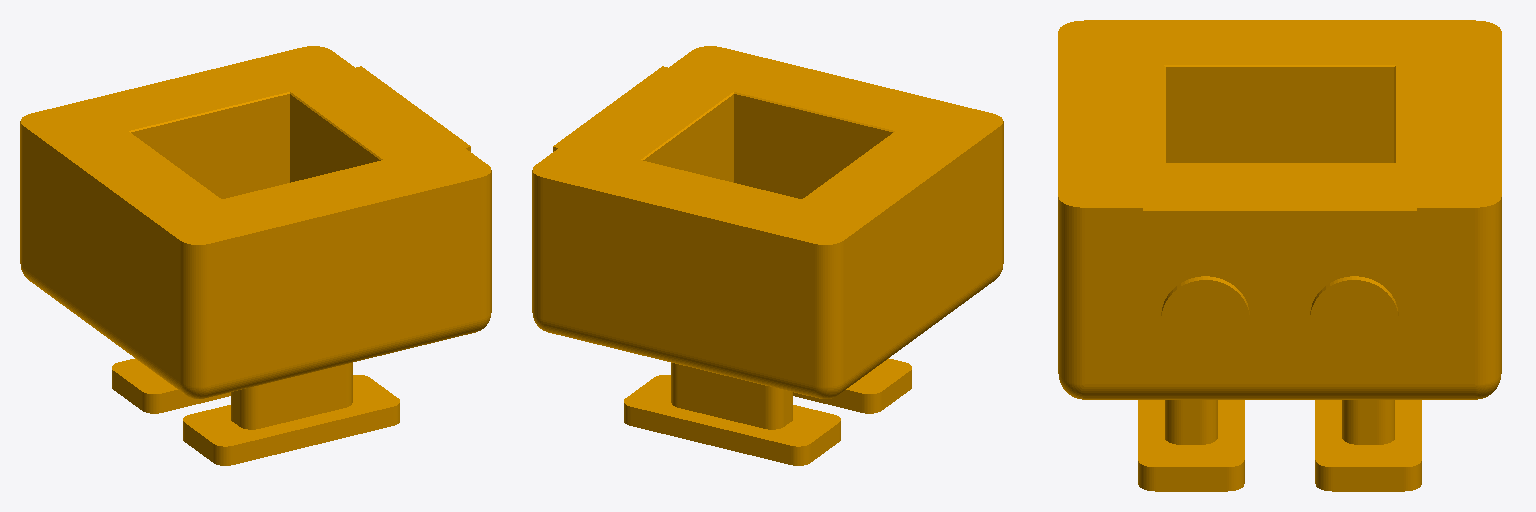
URDF robot description (holi_bottom_08):
<?xml version="1.0"?>
<robot name="holi_bottom_08">

  <link name="holi_bottom_08">
        
    <visual>
      <origin xyz="0.0 0.0 0.0" rpy="0 0 1.57079632679"/>
      <geometry>
        <mesh filename="package://holi/meshes/visual/holi_bottom_08.obj"/>
      </geometry>            
    </visual>

    <!-- foot -->
    <collision>
      <origin xyz="0.0 -0.01 0.0015"/>
      <geometry>
        <box size="0.03 0.01 0.003"/>
      </geometry>      
    </collision>
    <inertial>
      <mass value="1"/>
      <friction value="1.0"/>
      <inertia ixx="0.01" ixy="0.0" ixz="0.0" iyy="0.01" iyz="0.0" izz="0.01"/>
    </inertial>

    <!-- foot -->
    <collision>
      <origin xyz="0.0 0.01 0.0015"/>
      <geometry>
        <box size="0.03 0.01 0.003"/>
      </geometry>      
    </collision>
    <inertial>
      <mass value="1"/>
      <friction value="1.0"/>
      <inertia ixx="0.01" ixy="0.0" ixz="0.0" iyy="0.01" iyz="0.0" izz="0.01"/>
    </inertial>
   
    <!-- leg -->
    <collision>
      <origin xyz="0.0 -0.01 0.009"/>
      <geometry>
        <box size="0.02 0.005 0.012"/>
      </geometry>        
    </collision>
    <inertial>
      <mass value="1"/>
      <friction value="1.0"/>
      <inertia ixx="0.01" ixy="0.0" ixz="0.0" iyy="0.01" iyz="0.0" izz="0.01"/>
    </inertial>
    
    <!-- leg -->
    <collision>
      <origin xyz="0.0  0.01 0.009"/>
      <geometry>
        <box size="0.02 0.005 0.012"/>
      </geometry>        
    </collision>
    <inertial>
      <mass value="1"/>
      <friction value="1.0"/>
      <inertia ixx="0.01" ixy="0.0" ixz="0.0" iyy="0.01" iyz="0.0" izz="0.01"/>
    </inertial>

    <!-- body -->
    <collision>
      <origin xyz="0.0 0.0 0.02"/>
      <geometry>
        <box size="0.05 0.05 0.01"/>
      </geometry>      
    </collision>    
    <inertial>
      <mass value="4"/>
      <friction value="1.0"/>
      <inertia ixx="0.01" ixy="0.0" ixz="0.0" iyy="0.01" iyz="0.0" izz="0.01"/>
    </inertial>  
    
    <!-- body hole 1 -->
    <collision>
      <origin xyz="0.01895 -0.00605 0.0325"/>
      <geometry>
        <box size="0.0121 0.0379 0.015"/>
      </geometry>      
    </collision>    
    <inertial>
      <mass value="1"/>
      <friction value="1.0"/>
      <inertia ixx="0.01" ixy="0.0" ixz="0.0" iyy="0.01" iyz="0.0" izz="0.01"/>
    </inertial> 
    
    <!-- body hole 2 -->
    <collision>
      <origin xyz="-0.01895 0.00605 0.0325"/>
      <geometry>
        <box size="0.0121 0.0379 0.015"/>
      </geometry>      
    </collision>    
    <inertial>
      <mass value="1"/>
      <friction value="1.0"/>
      <inertia ixx="0.01" ixy="0.0" ixz="0.0" iyy="0.01" iyz="0.0" izz="0.01"/>
    </inertial>
    
    <!-- body hole 3 -->
    <collision>
      <origin xyz="0.00605 0.01895 0.0325"/>
      <geometry>
        <box size="0.0379 0.0121 0.015"/>
      </geometry>      
    </collision>    
    <inertial>
      <mass value="1"/>
      <friction value="1.0"/>
      <inertia ixx="0.01" ixy="0.0" ixz="0.0" iyy="0.01" iyz="0.0" izz="0.01"/>
    </inertial>
      
    <!-- body hole 4 -->
    <collision>
      <origin xyz="-0.00605 -0.01895 0.0325"/>
      <geometry>
        <box size="0.0379 0.0121 0.015"/>
      </geometry>      
    </collision>    
    <inertial>
      <mass value="1"/>
      <friction value="1.0"/>
      <inertia ixx="0.01" ixy="0.0" ixz="0.0" iyy="0.01" iyz="0.0" izz="0.01"/>
    </inertial>
   
  </link>
  
</robot>

--- Facts derived from the render (not from the file) ---
Views: 3 orthographic renders of the robot side by side, from view 1: azimuth 30°, elevation 25°; view 2: azimuth 150°, elevation 25°; view 3: azimuth 270°, elevation 25°.
Model holi_bottom_08 with 1 links and 0 joints (none), rooted at holi_bottom_08, posed all joints at 0.
Links seen in each view (by area): view 1: holi_bottom_08; view 2: holi_bottom_08; view 3: holi_bottom_08.
Boxes of the visible links, x1,y1,x2,y2 form: holi_bottom_08: [20, 46, 491, 465]; holi_bottom_08: [532, 46, 1003, 465]; holi_bottom_08: [1058, 20, 1501, 491].
Bounding box of the posed robot: 0.051 × 0.05 × 0.04 m (x, y, z).
1 mesh visuals loaded from 1 distinct referenced files (1 OBJ).